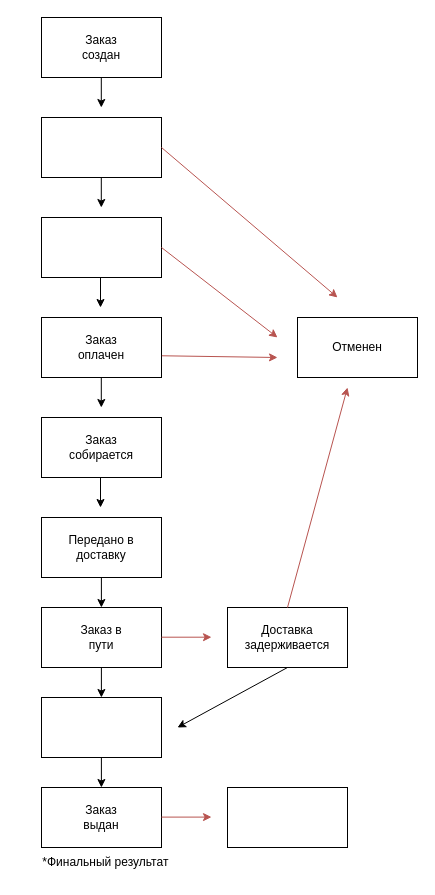
Some shapes in this 435 by 895 pixel diagram are drawn without their labels. Each missing label, with the box of its shape:
Возвращен: (226, 786, 348, 848)
Заказ подтвержден: (40, 116, 162, 178)
Ожидает оплаты: (40, 216, 162, 278)
Ожидает получения: (40, 696, 162, 758)
